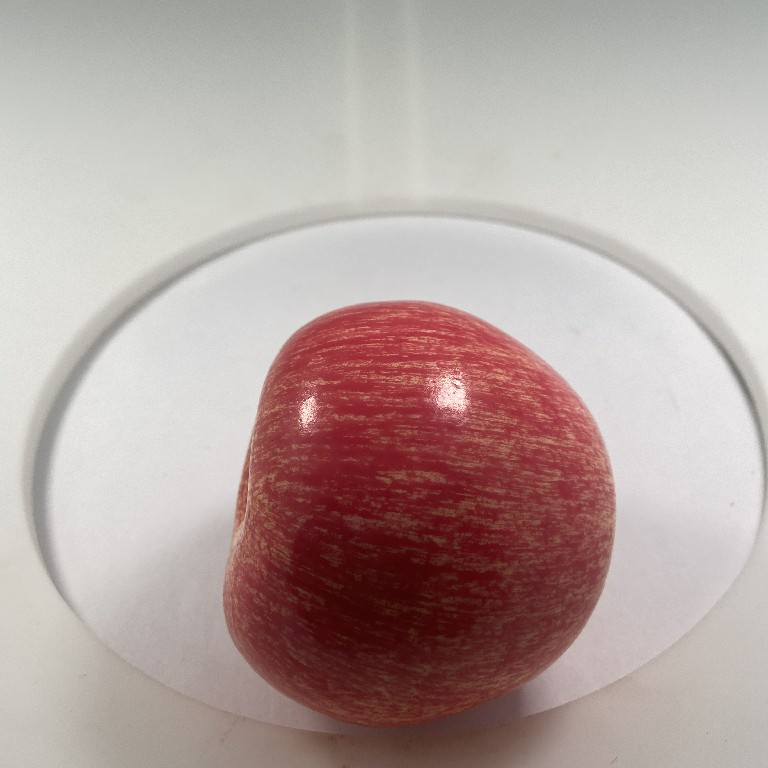fruit_apple: (213, 295, 623, 738)
